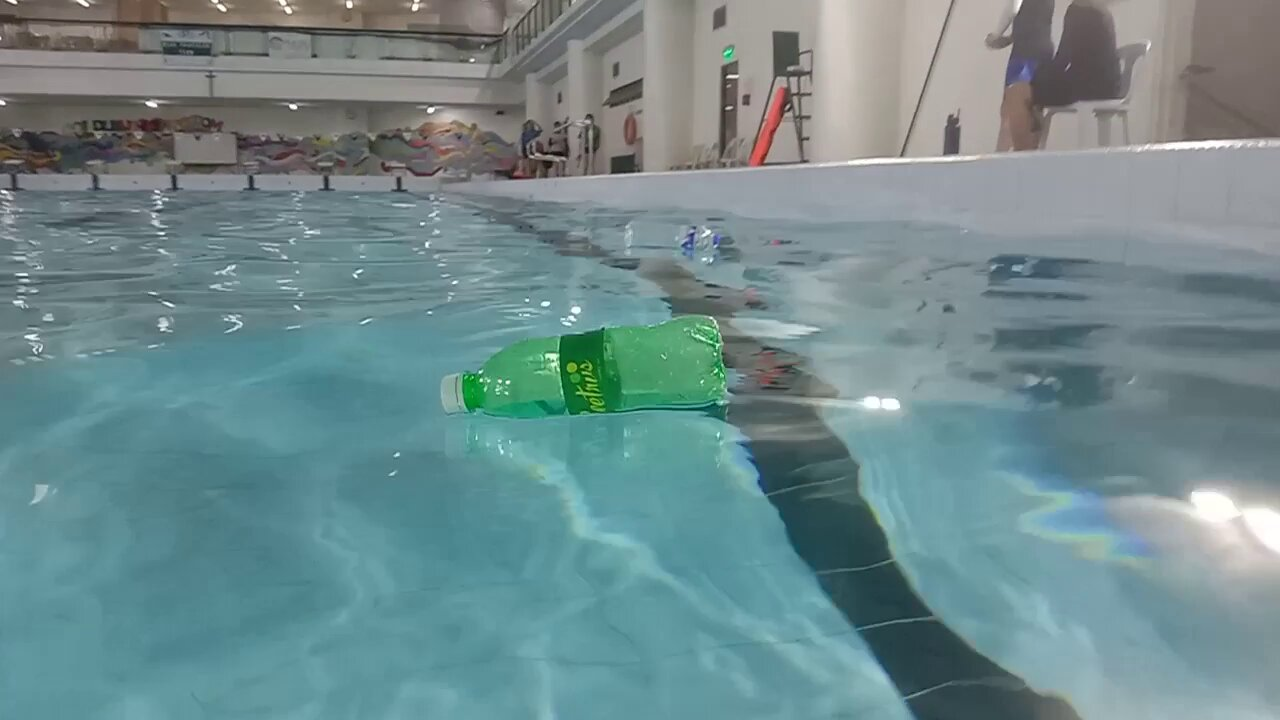plastic_bottle: (437, 310, 727, 418), (626, 217, 721, 254)
